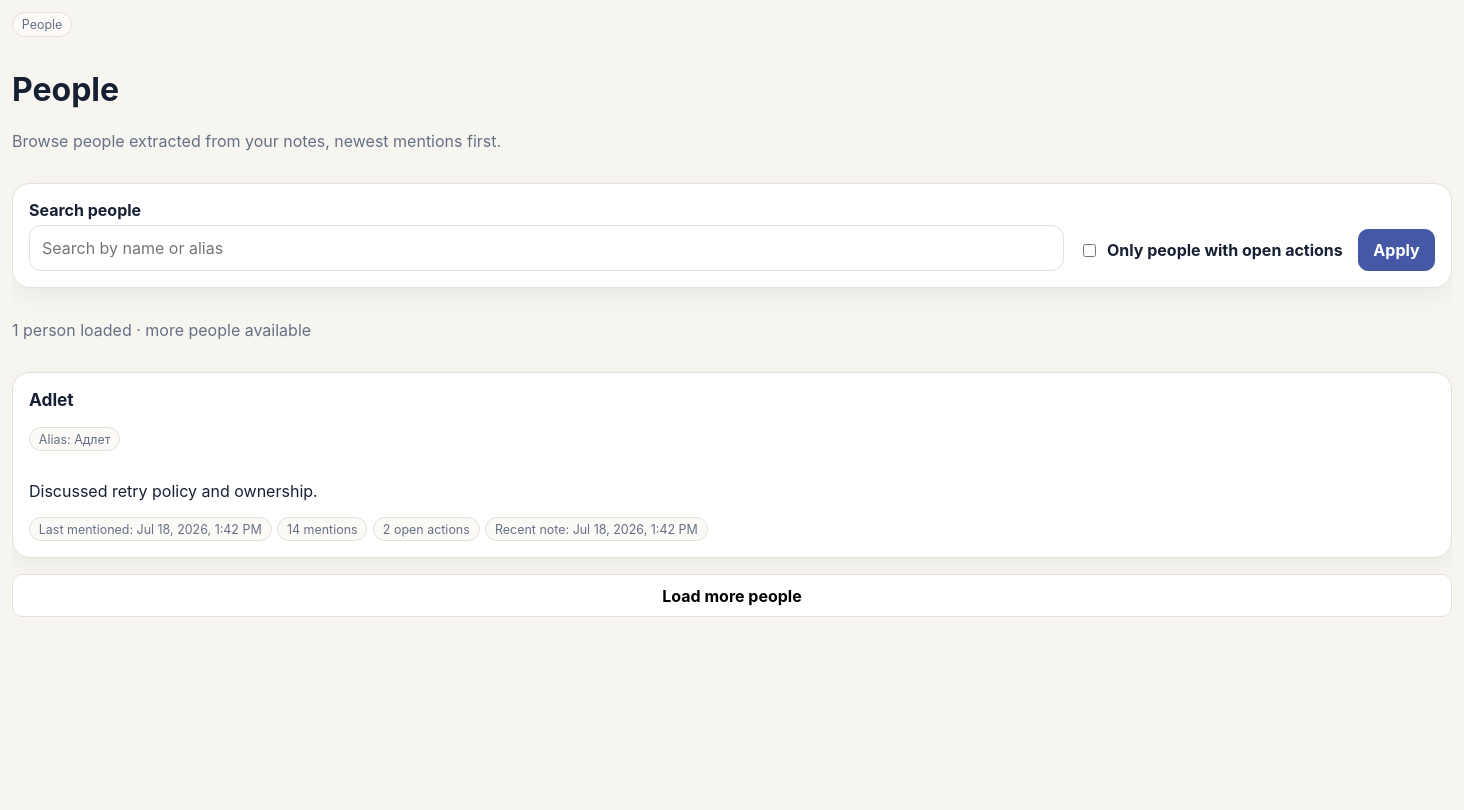
Scenario: PeoplePage › paginates with opaque cursor, appends, deduplicates, blocks duplicate clicks, and retries next-page errors
expect the text "Adlet" is shown: met, box [29,389,74,410]
Double-click the button "Load more people" at (732,596), box [12,574,1452,617]
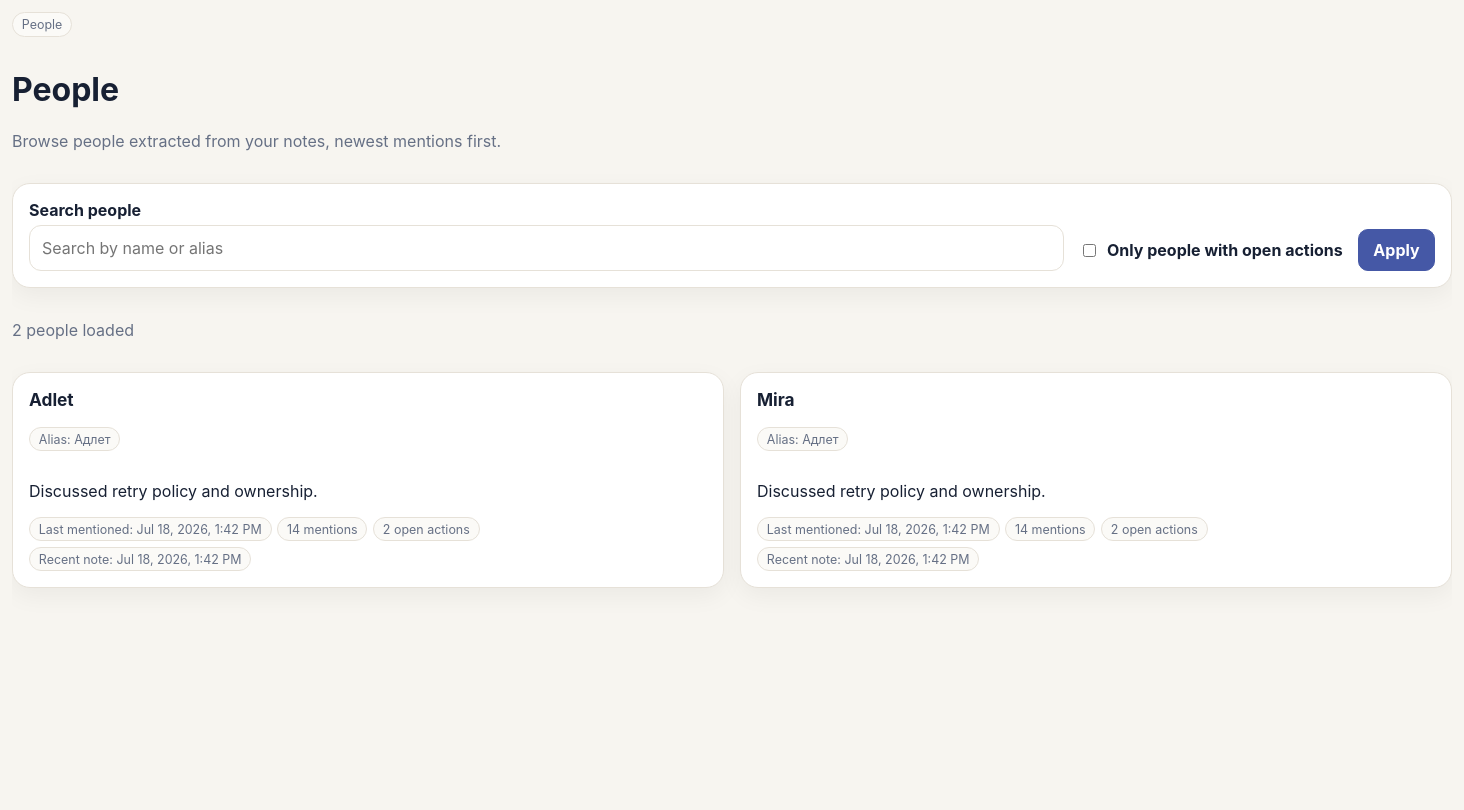
expect the text "Adlet" is shown once: met, box [29,389,74,410]
expect the text "Mira" is shown: met, box [757,389,795,410]
expect the button "Load more people" is gone: met
